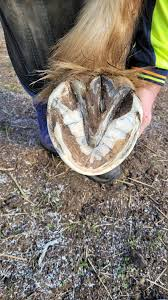horsesole: (46, 79, 144, 176)
